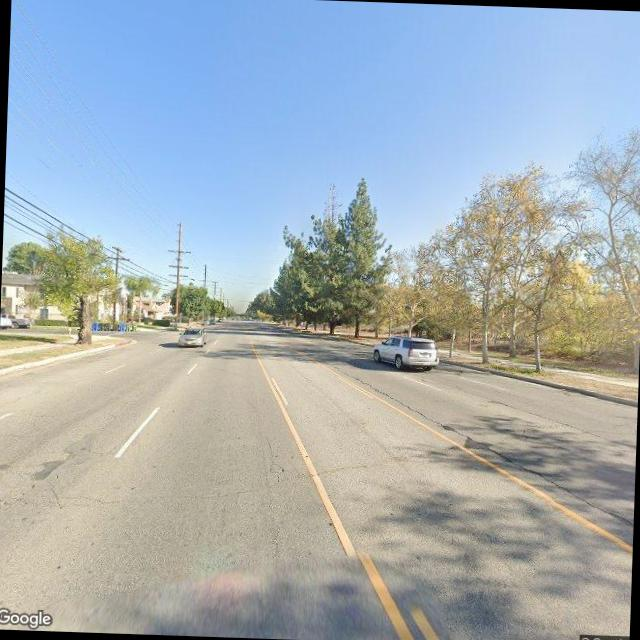crack: (334, 370, 623, 520), (293, 436, 467, 486), (258, 432, 286, 483)
